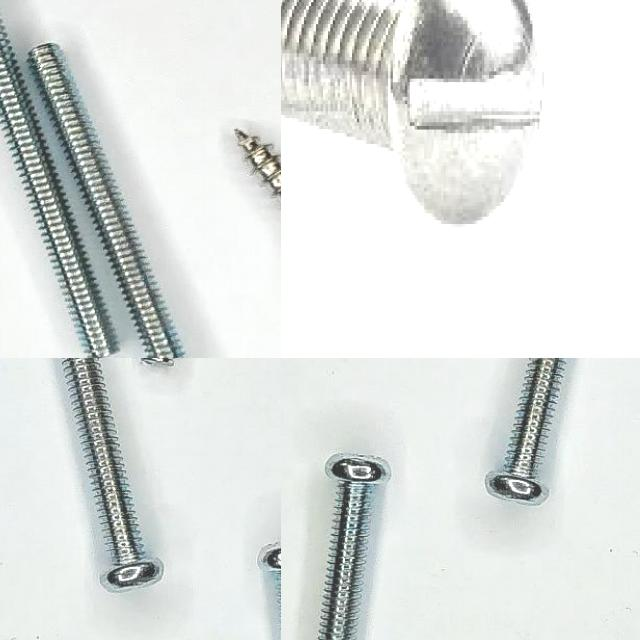Screw: (281, 0, 547, 231), (28, 44, 186, 358), (0, 18, 116, 358), (60, 358, 163, 590), (317, 455, 389, 640), (484, 358, 565, 505), (237, 129, 281, 198)
